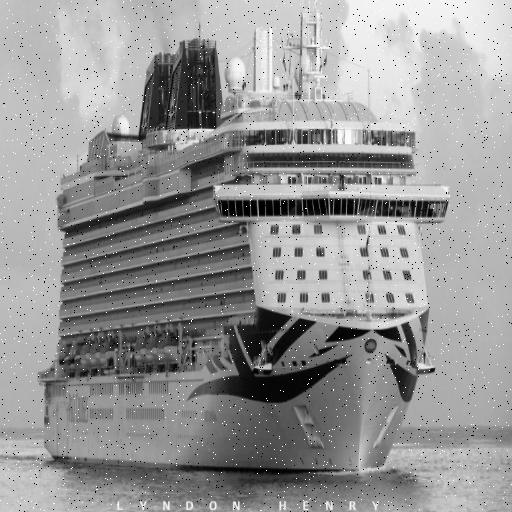cruises: (31, 1, 454, 485)
